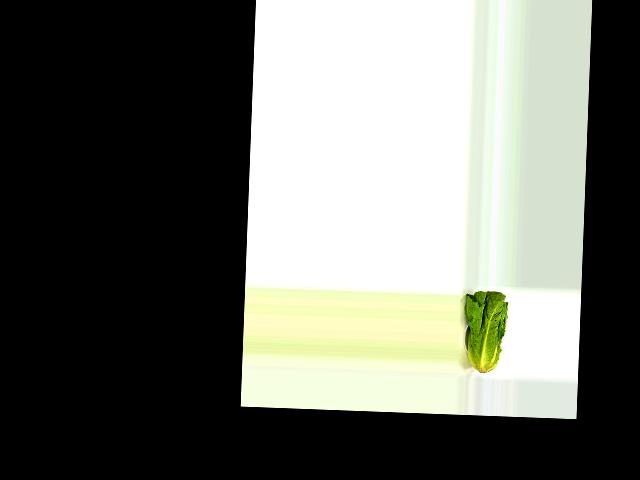lettuce: (461, 290, 510, 374)
